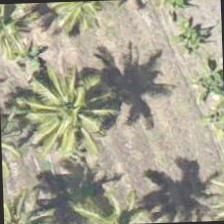Kelapa_Sawit: (21, 59, 114, 152), (0, 2, 49, 71)
